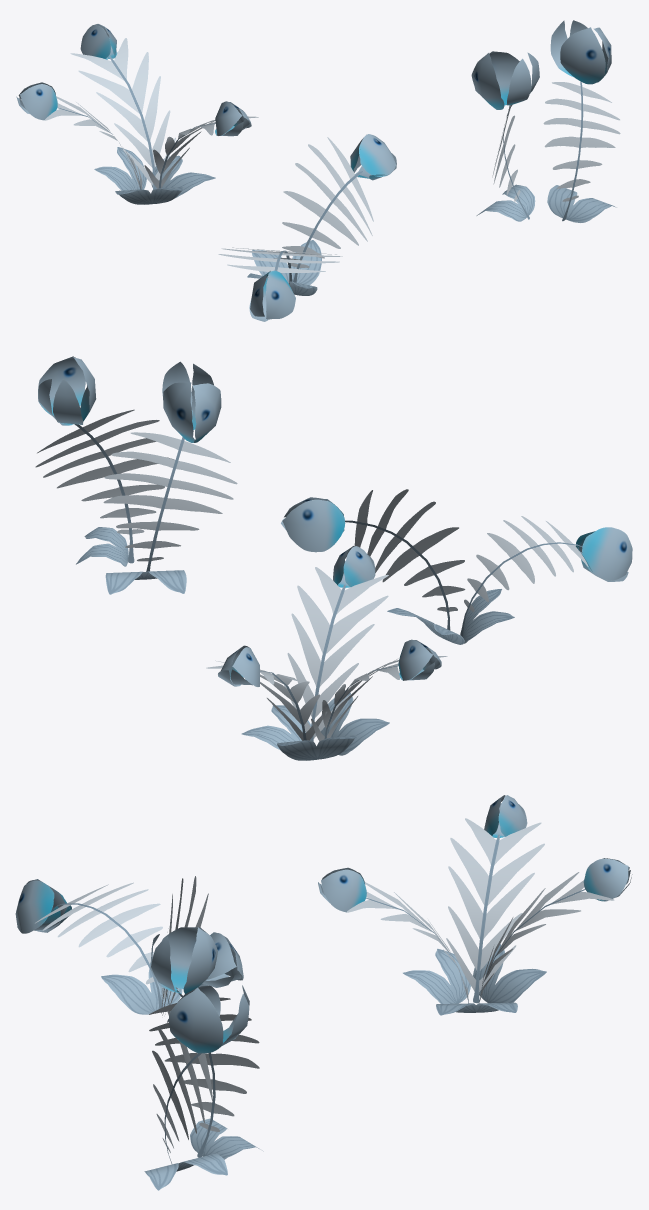
Rendered from fish-flowers.fbx.
3 renders of one model, top to bottom at view 1: azimuth 30°, elevation 25°; view 2: azimuth 150°, elevation 25°; view 3: azimuth 270°, elevation 25°, orthographic. The views are drawn at different scales.
Parts seen in each view (by area): view 1: fish_flowers; view 2: fish_flowers; view 3: fish_flowers.
Boxes of the visible parts, <box> form: fish_flowers: <box>16,20,620,321</box>; fish_flowers: <box>35,356,632,760</box>; fish_flowers: <box>15,795,632,1190</box>.
Size of the model in its own units: 30.78 by 11.29 by 28.55.
3 materials, 3 textured.
